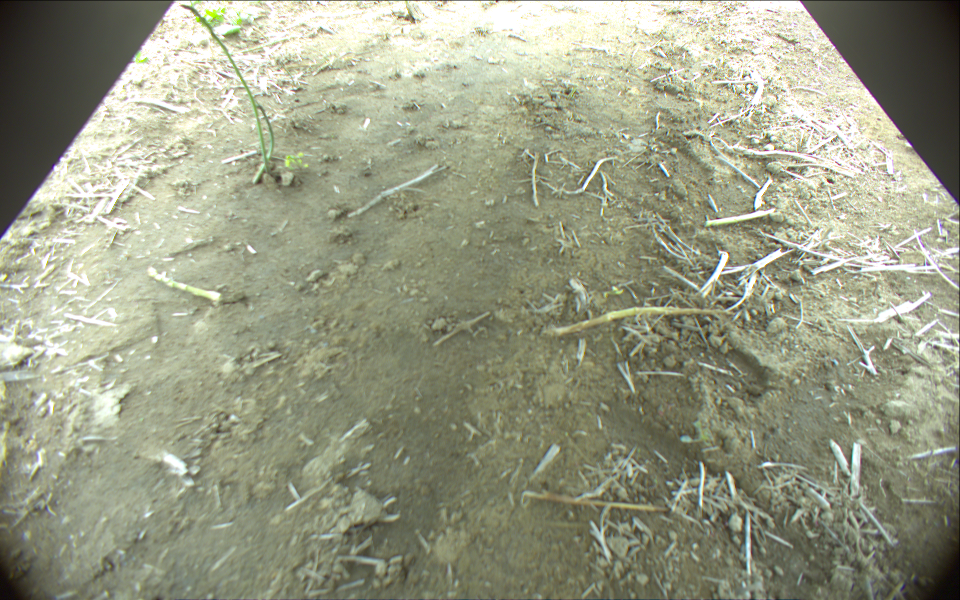aspa: (181, 5, 273, 174), (147, 266, 224, 303), (252, 105, 275, 187)
